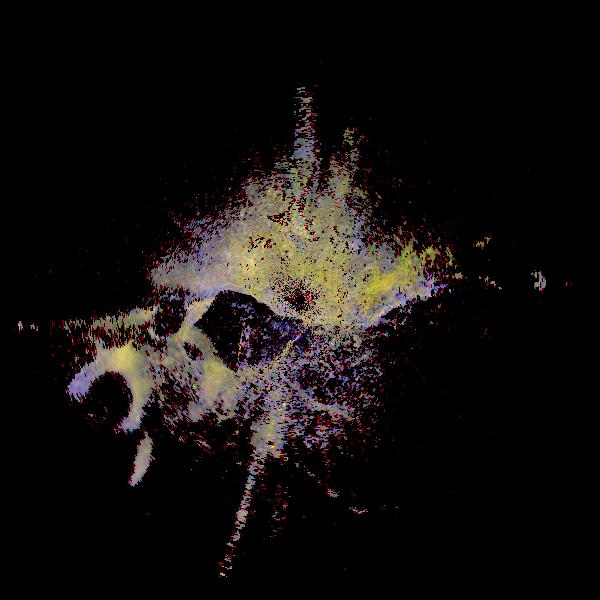roost: (299, 211, 410, 322), (128, 316, 236, 424), (64, 402, 166, 504), (223, 201, 322, 300), (63, 343, 159, 439)
